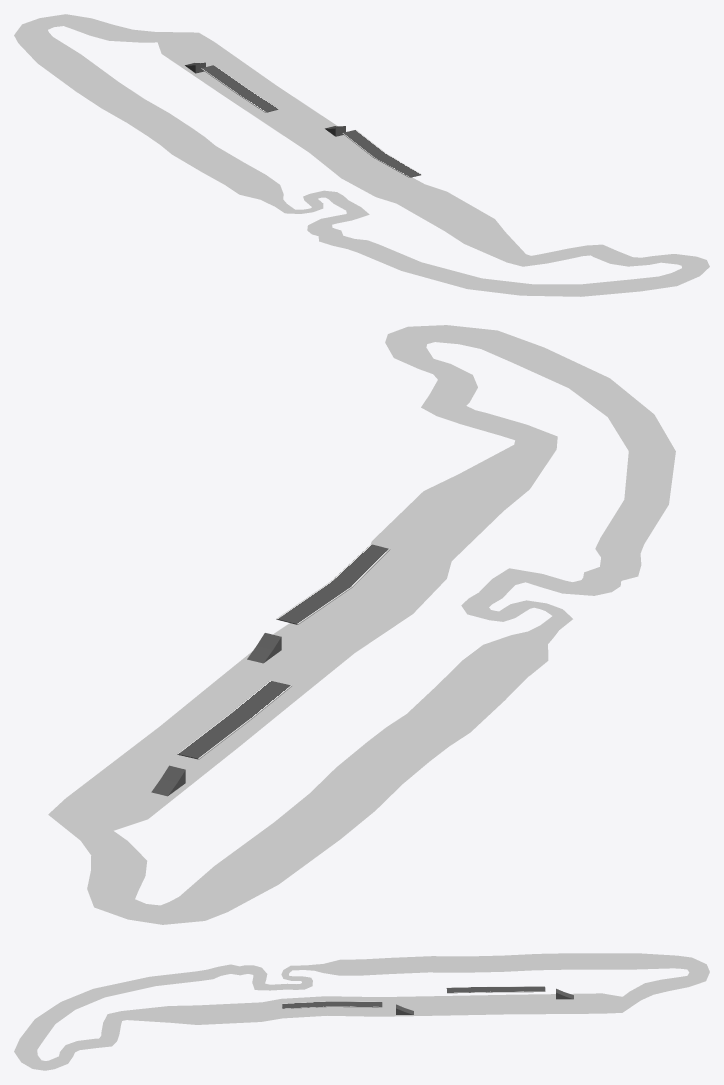
The model's file is PistaChile.fbx.
The picture shows the model from 3 angles, top to bottom: view 1: azimuth 30°, elevation 25°; view 2: azimuth 150°, elevation 25°; view 3: azimuth 270°, elevation 25°; orthographic projection. The views are drawn at different scales.
Visible parts, largest first — view 1: PistaChile, Catwalk, Catwalk2; view 2: PistaChile, Catwalk, Catwalk2; view 3: PistaChile, Catwalk, Catwalk2.
Boxes of the visible parts, x1=… form: PistaChile: x1=14, y1=14, x2=709, y2=296; Catwalk: x1=201, y1=65, x2=278, y2=112; Catwalk2: x1=342, y1=130, x2=421, y2=177; PistaChile: x1=48, y1=325, x2=675, y2=924; Catwalk: x1=177, y1=680, x2=291, y2=759; Catwalk2: x1=276, y1=544, x2=390, y2=624; PistaChile: x1=14, y1=953, x2=709, y2=1070; Catwalk: x1=446, y1=986, x2=545, y2=993; Catwalk2: x1=282, y1=1001, x2=382, y2=1008.
Bounding box in the file's own units: 2.4 × 0.0814 × 6.
